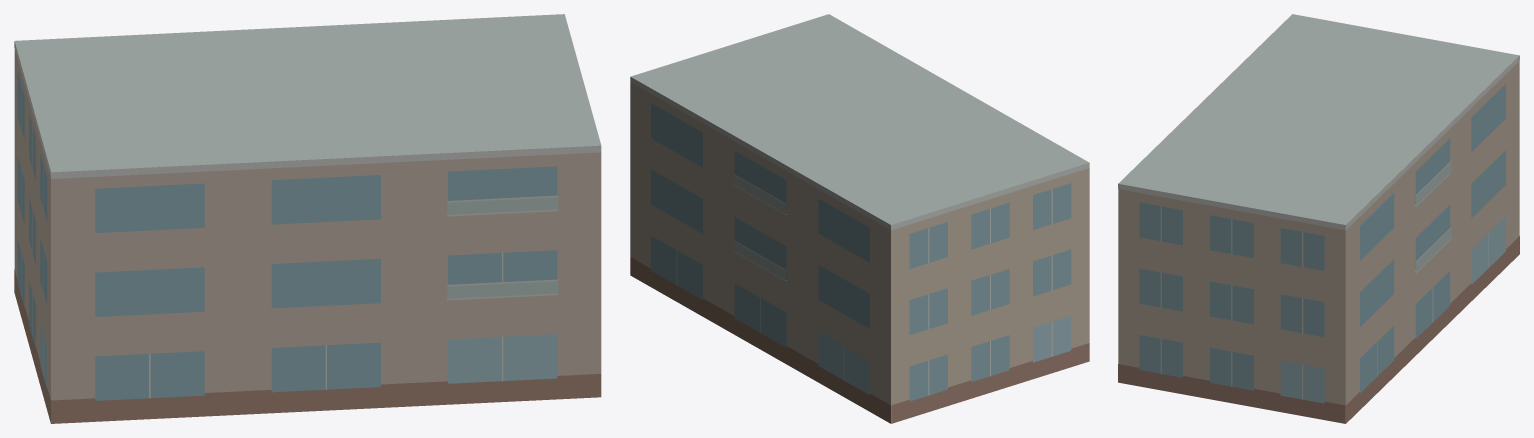
The model's file is survey-upis-32567325.glb.
3 renders of one model, left to right at view 1: azimuth 30°, elevation 25°; view 2: azimuth 150°, elevation 25°; view 3: azimuth 270°, elevation 25°, orthographic. The views are drawn at different scales.
Parts seen in each view (by area): view 1: survey-upis-32567325.tmp; view 2: survey-upis-32567325.tmp; view 3: survey-upis-32567325.tmp.
Boxes of the visible parts, x1,y1,x2,y2 form: survey-upis-32567325.tmp: (14,14,601,423); survey-upis-32567325.tmp: (630,14,1089,423); survey-upis-32567325.tmp: (1118,14,1519,423).
Size of the model in its own units: 20.85 by 9.15 by 16.76.
